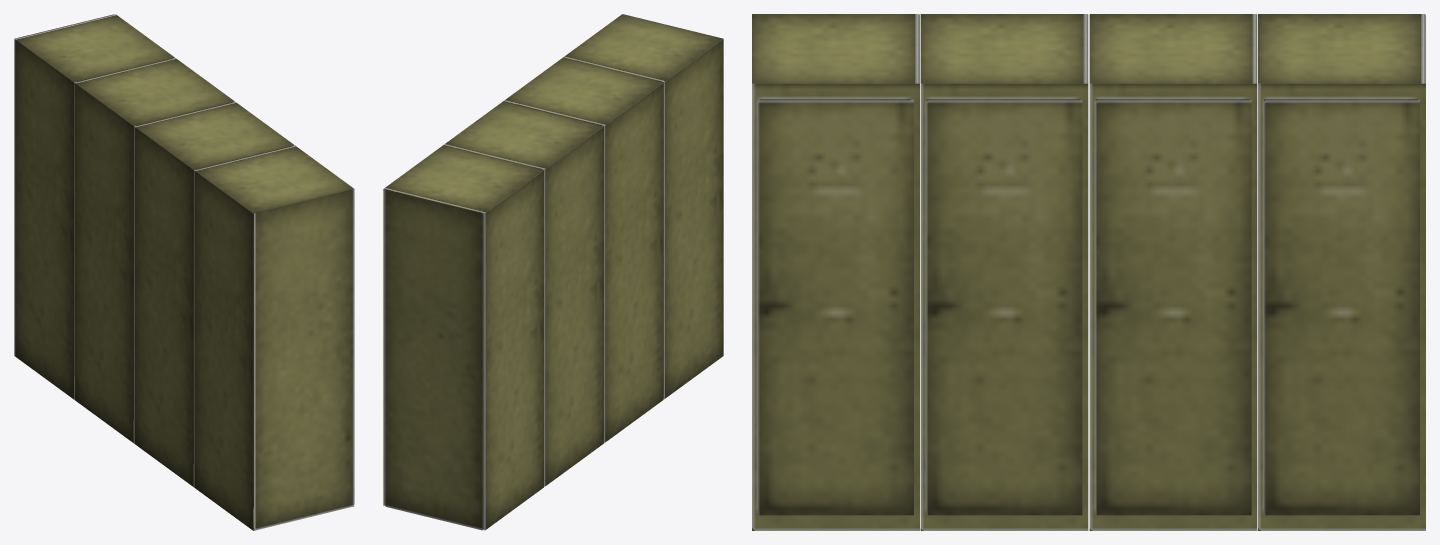
Rendered from Yellow Quad Lockers.fbx.
3 views of the same model, side by side, from view 1: azimuth 30°, elevation 25°; view 2: azimuth 150°, elevation 25°; view 3: azimuth 270°, elevation 25° (orthographic). The views are drawn at different scales.
Parts seen in each view (by area): view 1: Yellow Quad Lockers; view 2: Yellow Quad Lockers; view 3: Yellow Quad Lockers, Lockers Door.005, Lockers Door.006, Lockers Door.004, Lockers Door.007.
Part boxes in pixels (left/top/right/bottom): Yellow Quad Lockers: left=14, top=14, right=354, bottom=530; Yellow Quad Lockers: left=383, top=14, right=723, bottom=530; Yellow Quad Lockers: left=752, top=14, right=1425, bottom=530; Lockers Door.005: left=926, top=99, right=1082, bottom=515; Lockers Door.006: left=1095, top=99, right=1251, bottom=515; Lockers Door.004: left=758, top=99, right=913, bottom=515; Lockers Door.007: left=1264, top=99, right=1419, bottom=515.
Size of the model in its own units: 100 by 300 by 409.
